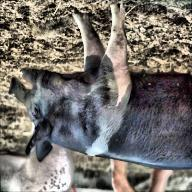boar: (8, 3, 192, 171)
